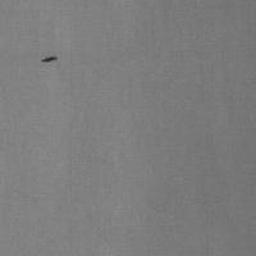Inclusion: (38, 55, 60, 65)
